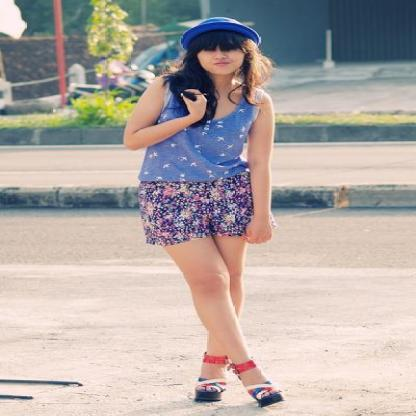hat: (170, 19, 261, 54)
shirt: (138, 92, 256, 192)
shoe: (194, 352, 283, 407)
skirt: (120, 172, 252, 245)
